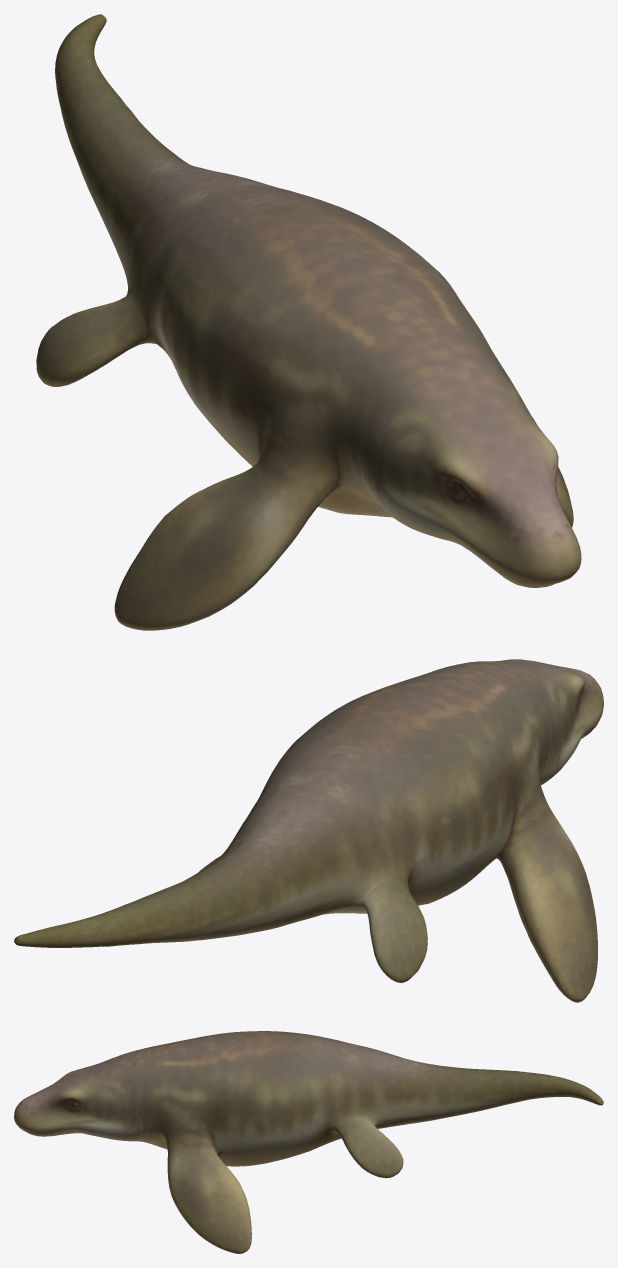
3 views of the same model, one above another, from view 1: azimuth 30°, elevation 25°; view 2: azimuth 150°, elevation 25°; view 3: azimuth 270°, elevation 25° (orthographic). The views are drawn at different scales.
Parts seen in each view (by area): view 1: world; view 2: world; view 3: world.
Boxes of the visible parts, x1,y1,x2,y2 form: world: (36, 14, 581, 630); world: (14, 659, 603, 1002); world: (14, 1031, 603, 1253).
Size of the model in its own units: 0.1717 by 0.122 by 0.4.
1 material, 1 textured.
